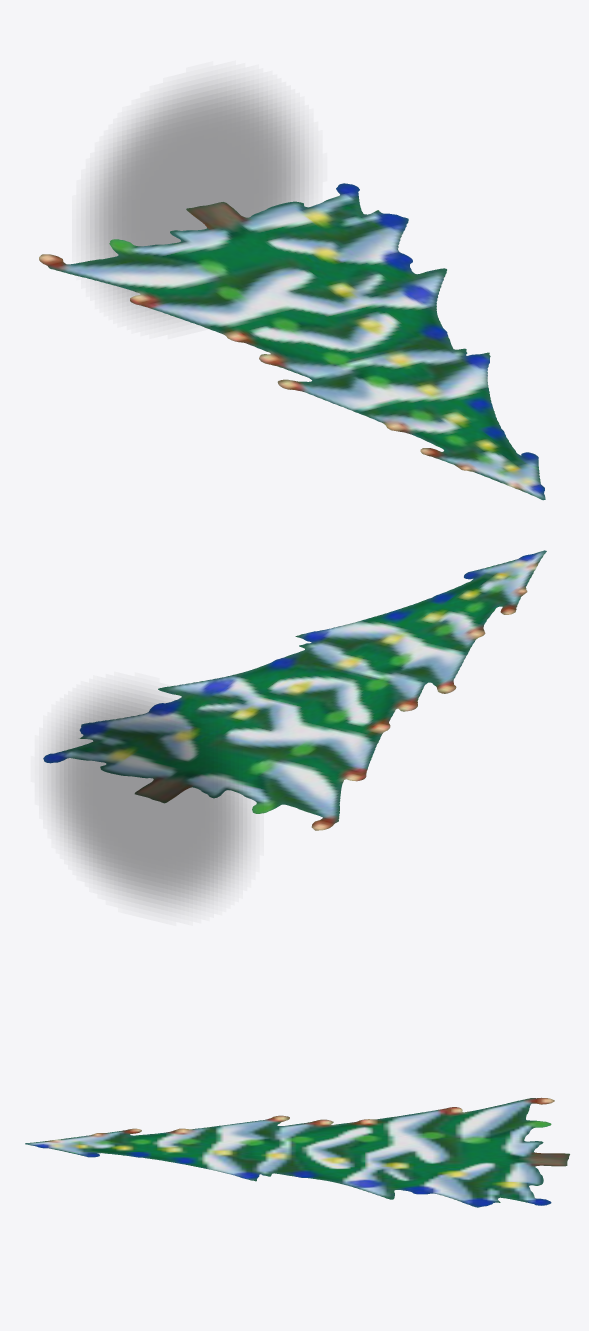
Rendered from prop_snow_tree_large_ur.glb.
The picture shows the model from 3 angles, top to bottom: view 1: azimuth 30°, elevation 25°; view 2: azimuth 150°, elevation 25°; view 3: azimuth 270°, elevation 25°; orthographic projection. The views are drawn at different scales.
Visible parts, largest first — view 1: p287_6__billboard, shadow_snow_tree_large_nobox_ur; view 2: p287_6__billboard, shadow_snow_tree_large_nobox_ur; view 3: p287_6__billboard.
Boxes of the visible parts, x1,y1,x2,y2 form: p287_6__billboard: (39, 183, 545, 500); shadow_snow_tree_large_nobox_ur: (90, 82, 304, 318); p287_6__billboard: (43, 550, 546, 830); shadow_snow_tree_large_nobox_ur: (51, 691, 247, 906); p287_6__billboard: (25, 1097, 569, 1207).
Bounding box in the file's own units: 13.99 × 12.32 × 29.17.
2 materials, 2 textured.
